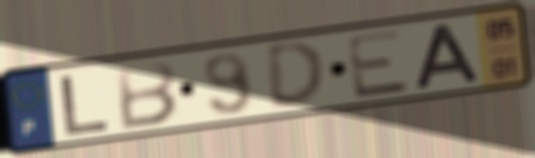9: (200, 50, 257, 118)
A: (413, 21, 485, 92)
B: (114, 59, 179, 132)
D: (262, 38, 330, 111)
E: (344, 27, 415, 102)
L: (59, 73, 114, 138)
